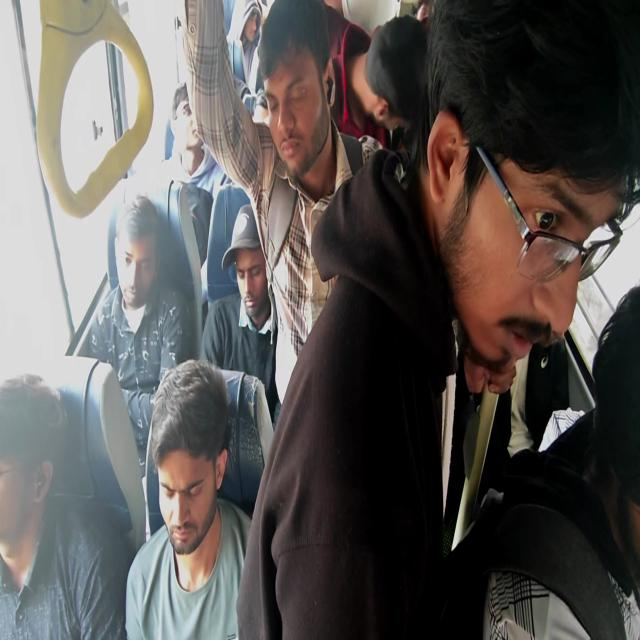person: (234, 0, 638, 638), (181, 0, 384, 420), (443, 283, 639, 639), (80, 193, 194, 540), (124, 358, 253, 638), (0, 372, 132, 639), (126, 80, 231, 268), (199, 202, 281, 426), (322, 1, 392, 148), (364, 12, 429, 154), (156, 81, 231, 200), (227, 1, 268, 122)
